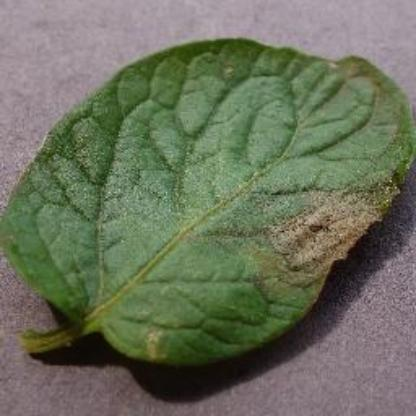Late-Blight: (15, 43, 410, 361)
